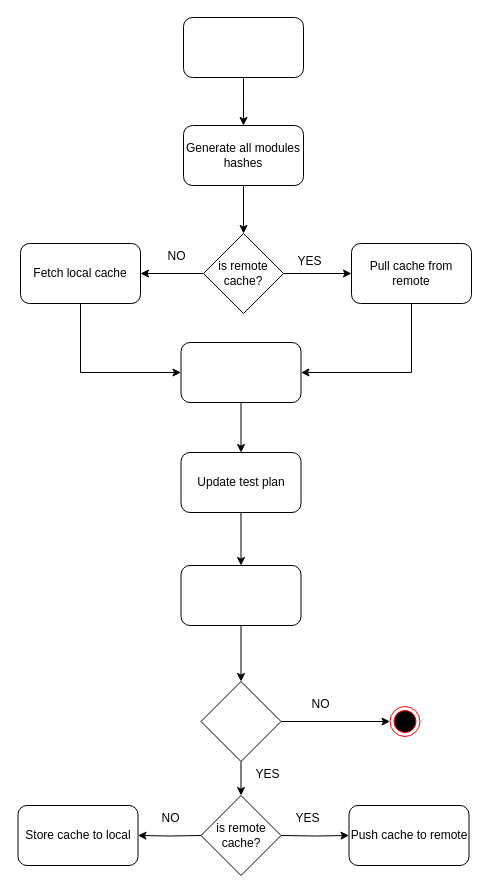
Image size: 489x893. Some labels were removed from this diagram. The centre of each missing label's shape, as x and y in pixels:
Calculate affected test targets: [240,372]
is success?: [240,721]
Load configuration: [243,47]
Run test: [240,595]
